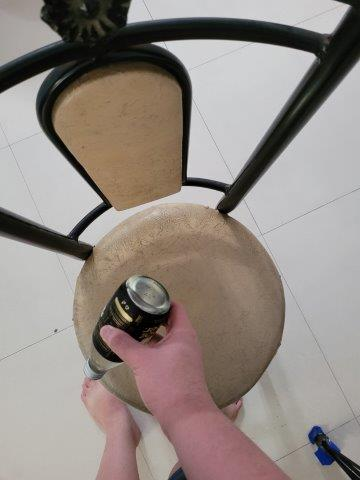botolkaca: (83, 275, 171, 380)
